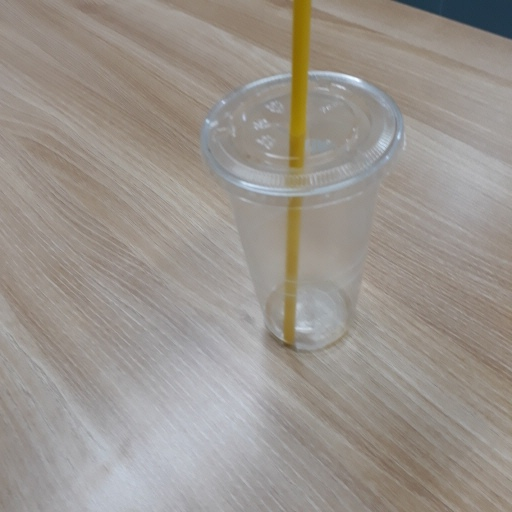Plastic_2: (203, 4, 408, 353)
